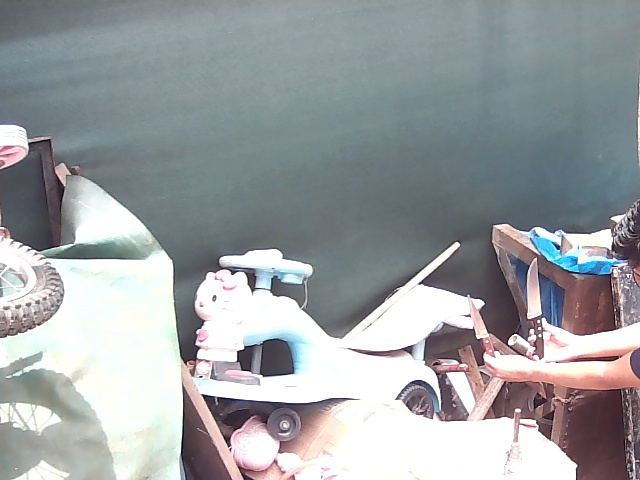cuchillo: (520, 251, 552, 345), (461, 289, 500, 361)
